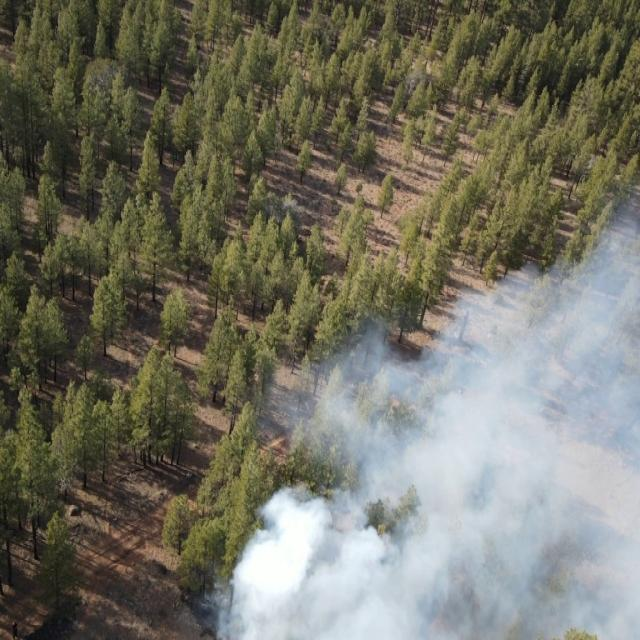smoke: (195, 184, 640, 640), (402, 71, 428, 101), (92, 66, 120, 90), (53, 474, 72, 500)
